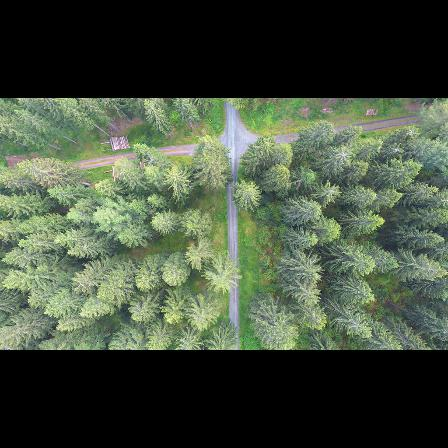Sick: (322, 180, 342, 201), (401, 123, 420, 142), (334, 147, 352, 165)
